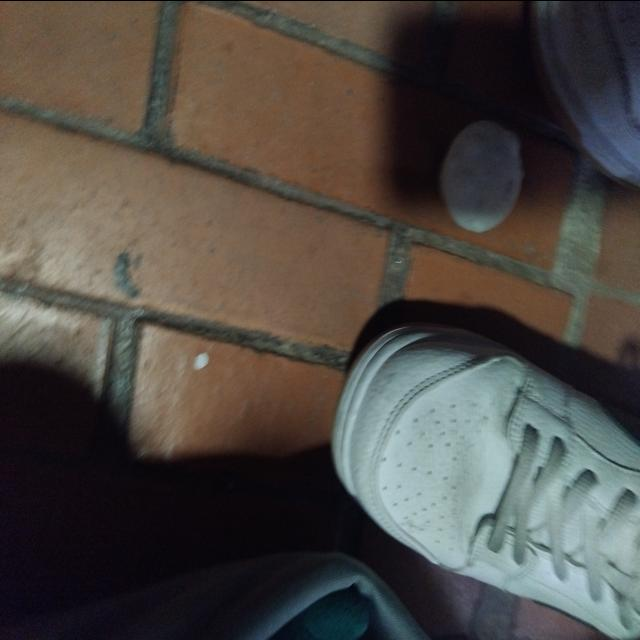Hongo: (438, 116, 526, 240)
